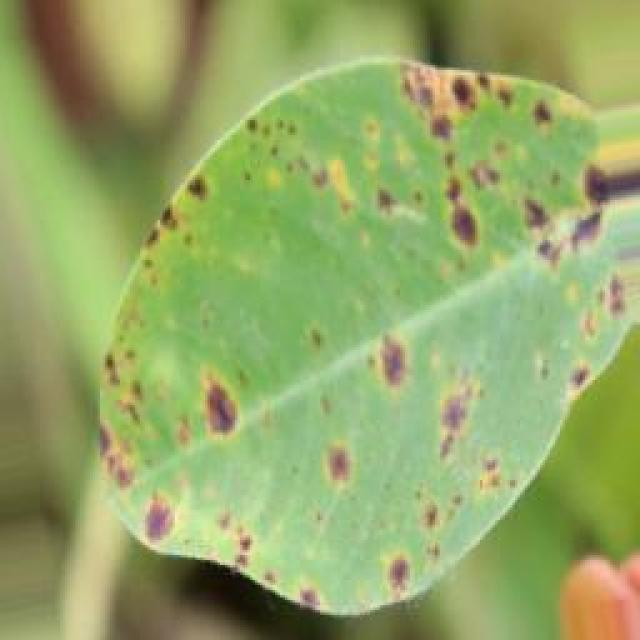Yellowish: (49, 51, 640, 618)
